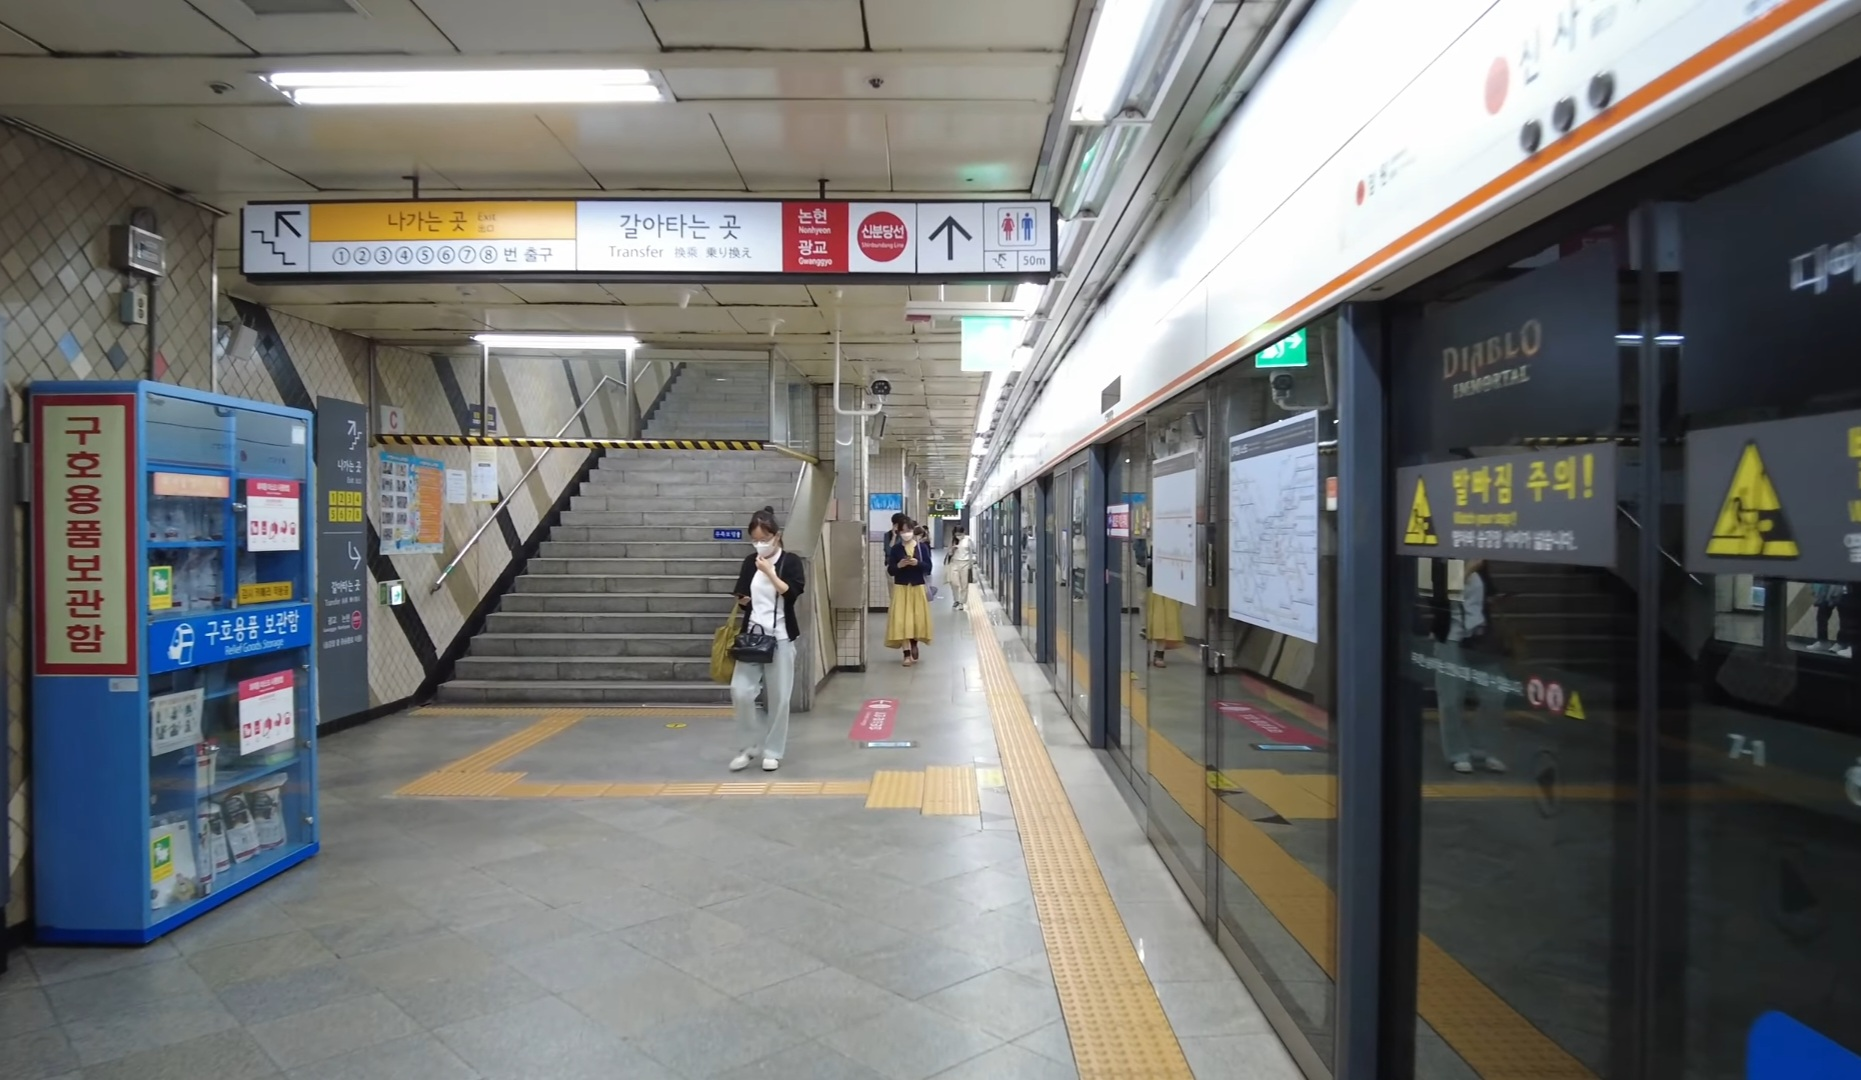signBoard: (231, 183, 1065, 285)
